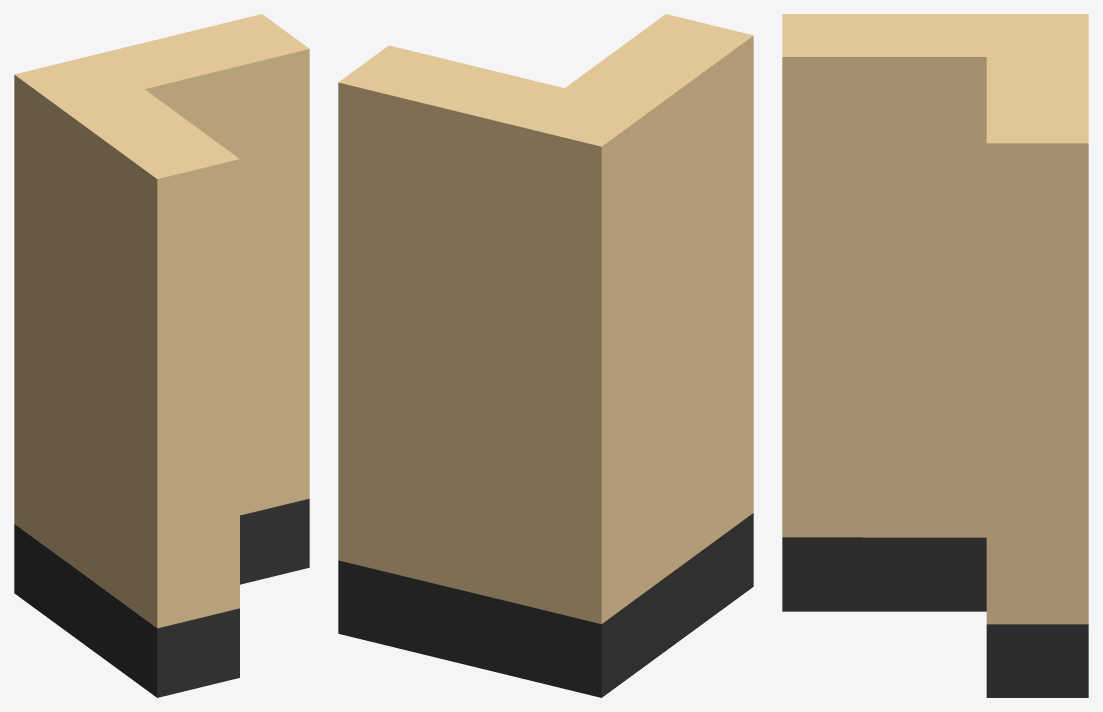
Rendered from wall_4.fbx.
3 views of the same model, side by side, from view 1: azimuth 30°, elevation 25°; view 2: azimuth 150°, elevation 25°; view 3: azimuth 270°, elevation 25° (orthographic). The views are drawn at different scales.
Visible parts, largest first — view 1: mesh_WallBrickCorner; view 2: mesh_WallBrickCorner; view 3: mesh_WallBrickCorner.
Part boxes in pixels (x1,y1,x2,y2): mesh_WallBrickCorner: (14,14,309,697); mesh_WallBrickCorner: (338,14,753,697); mesh_WallBrickCorner: (782,14,1088,697).
Size of the model in its own units: 150 by 300 by 150.
